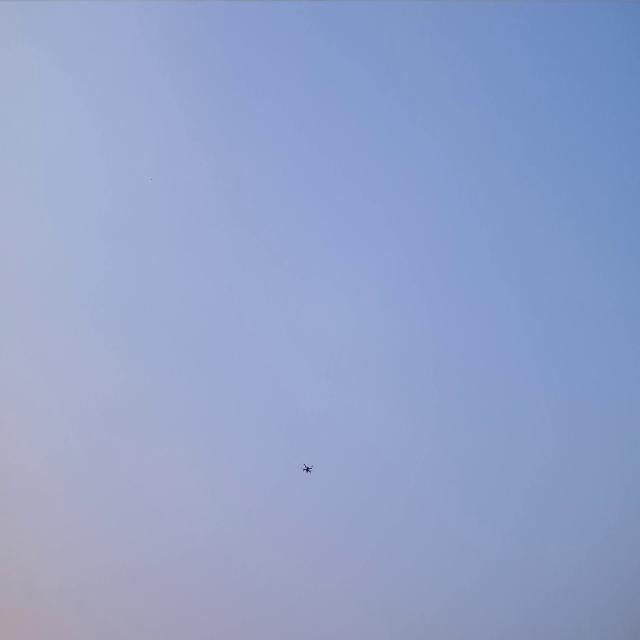UAV: (301, 462, 314, 475)
